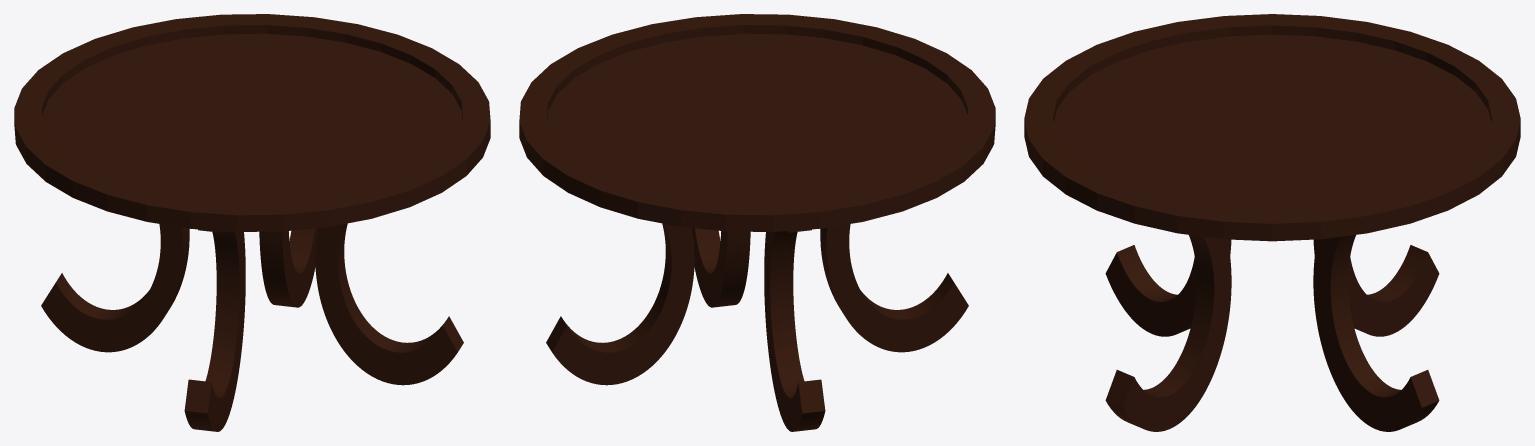
File: Tabel.fbx
3 views of the same model, side by side, from view 1: azimuth 30°, elevation 25°; view 2: azimuth 150°, elevation 25°; view 3: azimuth 270°, elevation 25° (orthographic). The views are drawn at different scales.
Visible parts, largest first — view 1: Table; view 2: Table; view 3: Table.
Boxes of the visible parts, box(x1,y1,x2,y2) form: Table: box(14, 14, 490, 431); Table: box(519, 14, 995, 431); Table: box(1024, 14, 1520, 431).
Bounding box in the file's own units: 2000 × 1153 × 2000.
